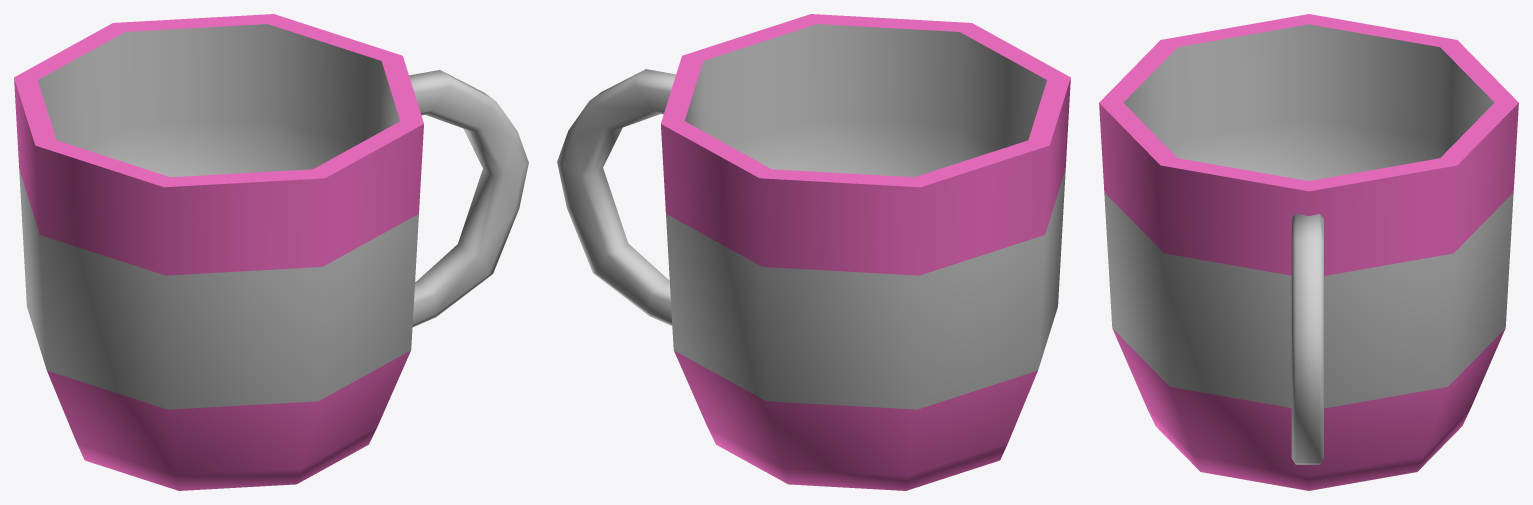
File: Coffee_Cup_12.FBX
3 views of the same model, side by side, from view 1: azimuth 30°, elevation 25°; view 2: azimuth 150°, elevation 25°; view 3: azimuth 270°, elevation 25° (orthographic).
Visible parts, largest first — view 1: Coffee Cup; view 2: Coffee Cup; view 3: Coffee Cup.
Part boxes in pixels (x1,y1,x2,y2): Coffee Cup: (14, 14, 528, 490); Coffee Cup: (557, 14, 1070, 490); Coffee Cup: (1099, 14, 1518, 490).
Size of the model in its own units: 44.01 by 28.24 by 33.22.
